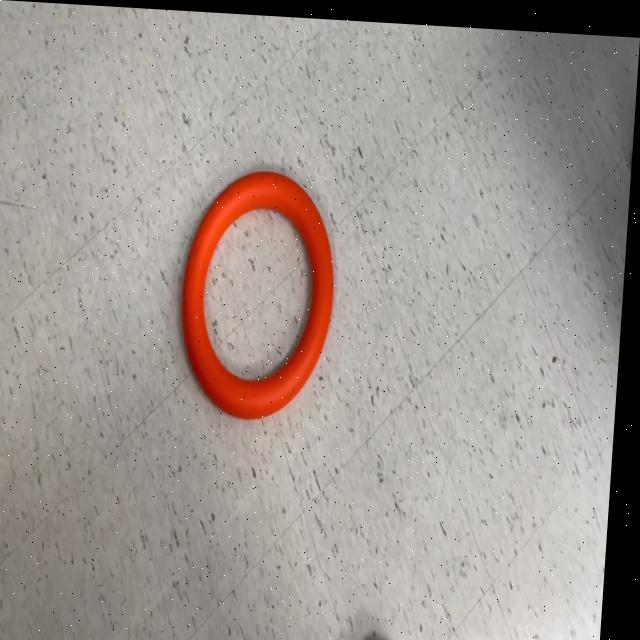note: (179, 165, 344, 422)
